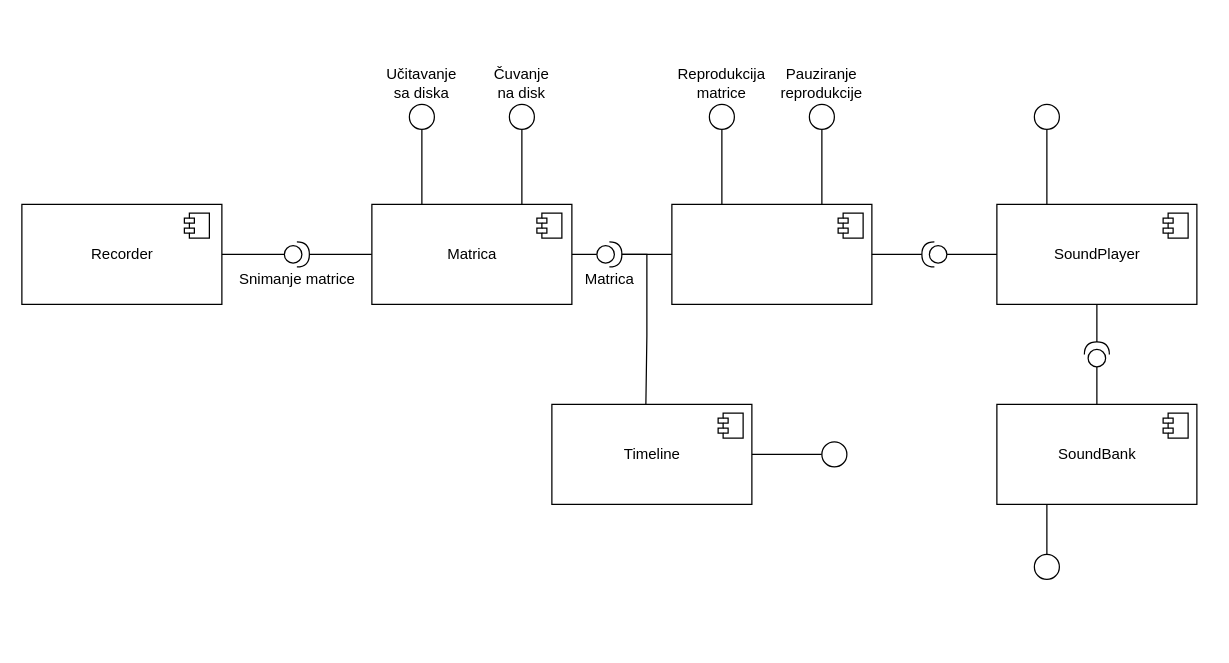
This 1229x663 diagram has some shape labels left out. Here are the shapes that lost their labels. From the top down, the centre of each, then its label:
At [1046,116]: "Promena jačine zvuka".
At [771,253]: "MatrixPlayer".
At [934,254]: "Reprodukcija jednog zvuka".
At [1096,354]: "Mapiran zvuk".
At [834,454]: "Vizuelni prikaz sadržaja matrice".
At [1046,566]: "Postavljanje konfiguracije tastera".
